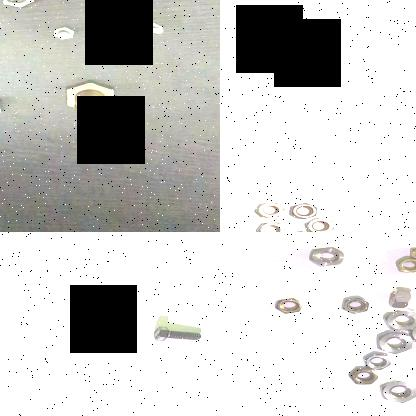Bolts: (49, 80, 125, 117), (148, 322, 204, 344), (40, 24, 76, 44), (136, 22, 172, 38), (0, 0, 50, 10)
NUTS: (305, 245, 347, 269), (376, 380, 416, 405), (374, 330, 414, 354), (381, 308, 416, 332), (386, 285, 414, 313), (341, 368, 379, 388), (358, 352, 392, 372), (270, 296, 304, 316), (287, 201, 320, 221), (338, 296, 370, 316), (253, 201, 286, 219), (302, 216, 336, 232), (396, 256, 416, 276), (254, 220, 287, 232), (405, 243, 416, 263), (408, 322, 416, 348)
